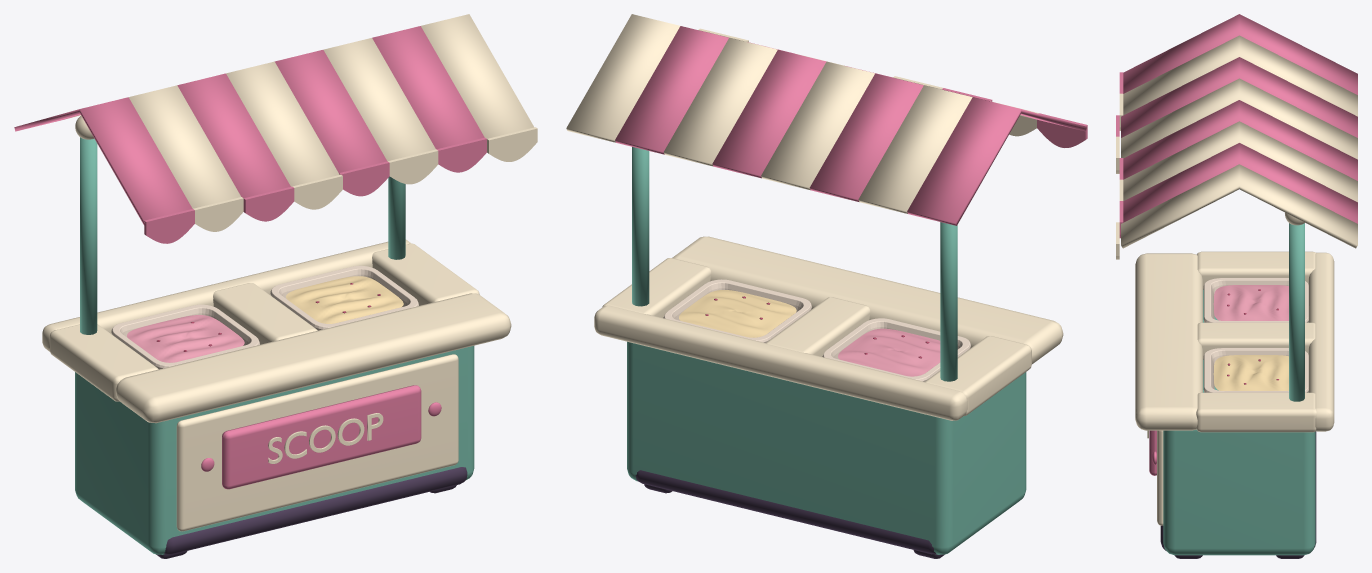
Rendered from Pop_up_stand.fbx.
3 renders of one model, left to right at view 1: azimuth 30°, elevation 25°; view 2: azimuth 150°, elevation 25°; view 3: azimuth 270°, elevation 25°, orthographic. The views are drawn at different scales.
Parts seen in each view (by area): view 1: Toon_Pop_up_stand Front serving ledge.001, Toon_Pop_up_stand Cream front panel.001, Toon_Pop_up_stand Rounded cabinet.001, Toon_Pop_up_stand Pink nameplate.001, Toon_Pop_up_stand Canopy stripe.008, Toon_Pop_up_stand Canopy stripe.011, Toon_Pop_up_stand Canopy stripe.015, Toon_Pop_up_stand Canopy stripe.010, Toon_Pop_up_stand Canopy stripe.009, Toon_Pop_up_stand Canopy stripe.014, Toon_Pop_up_stand Canopy stripe.012, Toon_Pop_up_stand Canopy stripe.013 (+20 smaller); view 2: Toon_Pop_up_stand Rounded cabinet.001, Toon_Pop_up_stand Front serving ledge.001, Toon_Pop_up_stand Rear rim.001, Toon_Pop_up_stand Canopy stripe.008, Toon_Pop_up_stand Canopy stripe.009, Toon_Pop_up_stand Canopy stripe.012, Toon_Pop_up_stand Canopy stripe.011, Toon_Pop_up_stand Canopy stripe.013, Toon_Pop_up_stand Canopy stripe.015, Toon_Pop_up_stand Canopy stripe.010, Toon_Pop_up_stand Canopy stripe.014, Toon_Pop_up_stand Plum toe rail.001 (+10 smaller); view 3: Toon_Pop_up_stand Rounded cabinet.001, Toon_Pop_up_stand Front serving ledge.001, Toon_Pop_up_stand Canopy stripe.015, Toon_Pop_up_stand Canopy stripe.010, Toon_Pop_up_stand Canopy stripe.011, Toon_Pop_up_stand Canopy stripe.014, Toon_Pop_up_stand Canopy stripe.013, Toon_Pop_up_stand Canopy stripe.012, Toon_Pop_up_stand Canopy stripe.008, Toon_Pop_up_stand Canopy stripe.009, Toon_Pop_up_stand Counter divider.005, Toon_Pop_up_stand Rear rim.001 (+10 smaller).
Part boxes in pixels (x1,y1,x2,y2): Toon_Pop_up_stand Front serving ledge.001: (116, 293, 511, 423); Toon_Pop_up_stand Cream front panel.001: (176, 354, 458, 531); Toon_Pop_up_stand Rounded cabinet.001: (75, 346, 474, 554); Toon_Pop_up_stand Pink nameplate.001: (222, 385, 421, 489); Toon_Pop_up_stand Canopy stripe.008: (14, 97, 192, 225); Toon_Pop_up_stand Canopy stripe.011: (226, 61, 339, 186); Toon_Pop_up_stand Canopy stripe.015: (421, 14, 533, 138); Toon_Pop_up_stand Canopy stripe.010: (177, 73, 290, 198); Toon_Pop_up_stand Canopy stripe.009: (68, 85, 240, 208); Toon_Pop_up_stand Canopy stripe.014: (372, 26, 484, 149); Toon_Pop_up_stand Canopy stripe.012: (274, 50, 386, 172); Toon_Pop_up_stand Canopy stripe.013: (323, 38, 435, 161); Toon_Pop_up_stand Rounded cabinet.001: (627, 341, 1026, 554); Toon_Pop_up_stand Front serving ledge.001: (672, 236, 1063, 364); Toon_Pop_up_stand Rear rim.001: (594, 305, 967, 420); Toon_Pop_up_stand Canopy stripe.008: (907, 97, 1086, 225); Toon_Pop_up_stand Canopy stripe.009: (858, 85, 1033, 213); Toon_Pop_up_stand Canopy stripe.012: (712, 49, 826, 178); Toon_Pop_up_stand Canopy stripe.011: (761, 61, 874, 190); Toon_Pop_up_stand Canopy stripe.013: (664, 38, 777, 166); Toon_Pop_up_stand Canopy stripe.015: (566, 14, 680, 142); Toon_Pop_up_stand Canopy stripe.010: (809, 73, 923, 201); Toon_Pop_up_stand Canopy stripe.014: (615, 26, 728, 154); Toon_Pop_up_stand Plum toe rail.001: (635, 470, 936, 554); Toon_Pop_up_stand Rounded cabinet.001: (1163, 289, 1315, 555); Toon_Pop_up_stand Front serving ledge.001: (1135, 253, 1202, 430); Toon_Pop_up_stand Canopy stripe.015: (1121, 164, 1357, 248); Toon_Pop_up_stand Canopy stripe.010: (1121, 57, 1357, 137); Toon_Pop_up_stand Canopy stripe.011: (1121, 78, 1357, 159); Toon_Pop_up_stand Canopy stripe.014: (1123, 143, 1357, 223); Toon_Pop_up_stand Canopy stripe.013: (1123, 121, 1357, 202); Toon_Pop_up_stand Canopy stripe.012: (1123, 100, 1357, 180); Toon_Pop_up_stand Canopy stripe.008: (1123, 14, 1357, 94); Toon_Pop_up_stand Canopy stripe.009: (1123, 35, 1357, 116); Toon_Pop_up_stand Counter divider.005: (1196, 392, 1316, 432); Toon_Pop_up_stand Rear rim.001: (1308, 252, 1334, 431).
Bounding box in the file's own units: 240 × 258 × 143.
